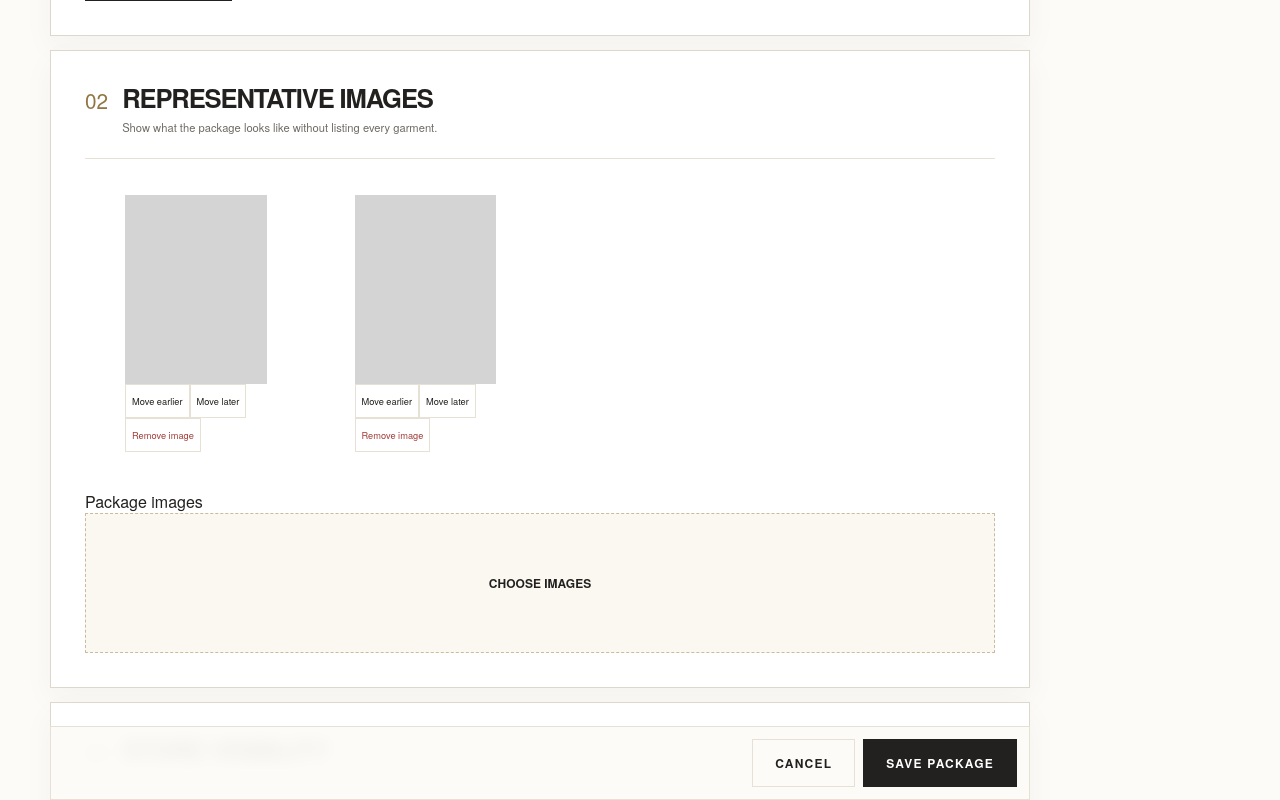
it: removes and reorders representative package images
(page scrolled)
Click the 1st button "Move later" at (218, 401), box left=190, top=384, right=246, bottom=418
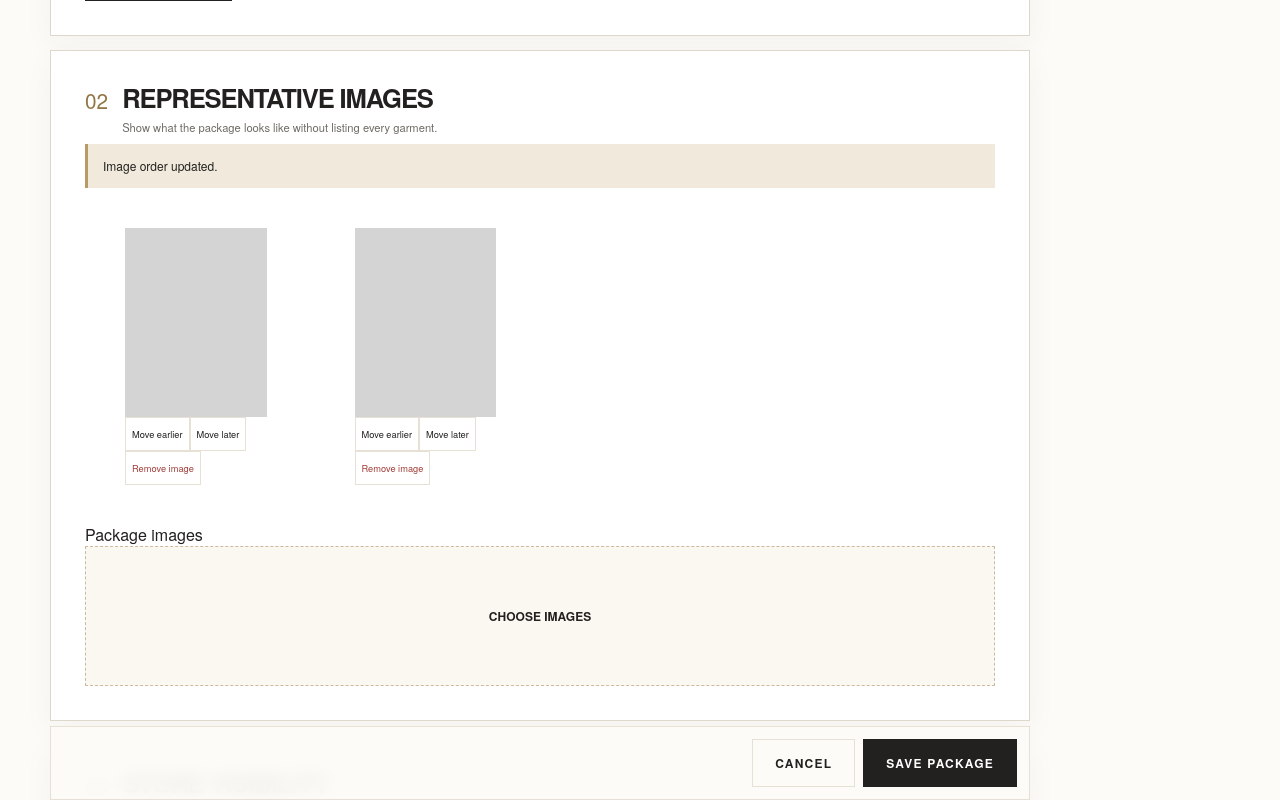
Click the 1st button "Remove image" at (163, 468), box left=125, top=451, right=201, bottom=485
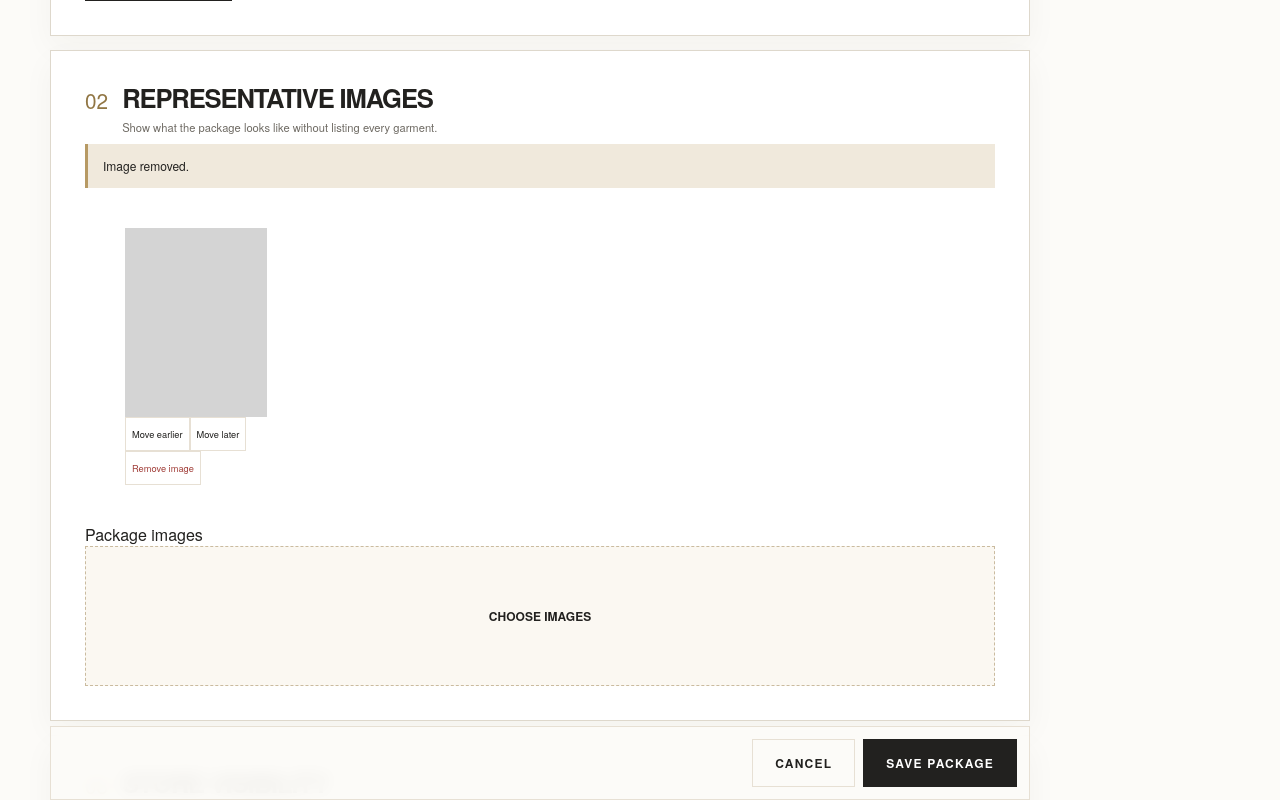
Expected: the text "Image removed." is shown, left=85, top=144, right=995, bottom=188
